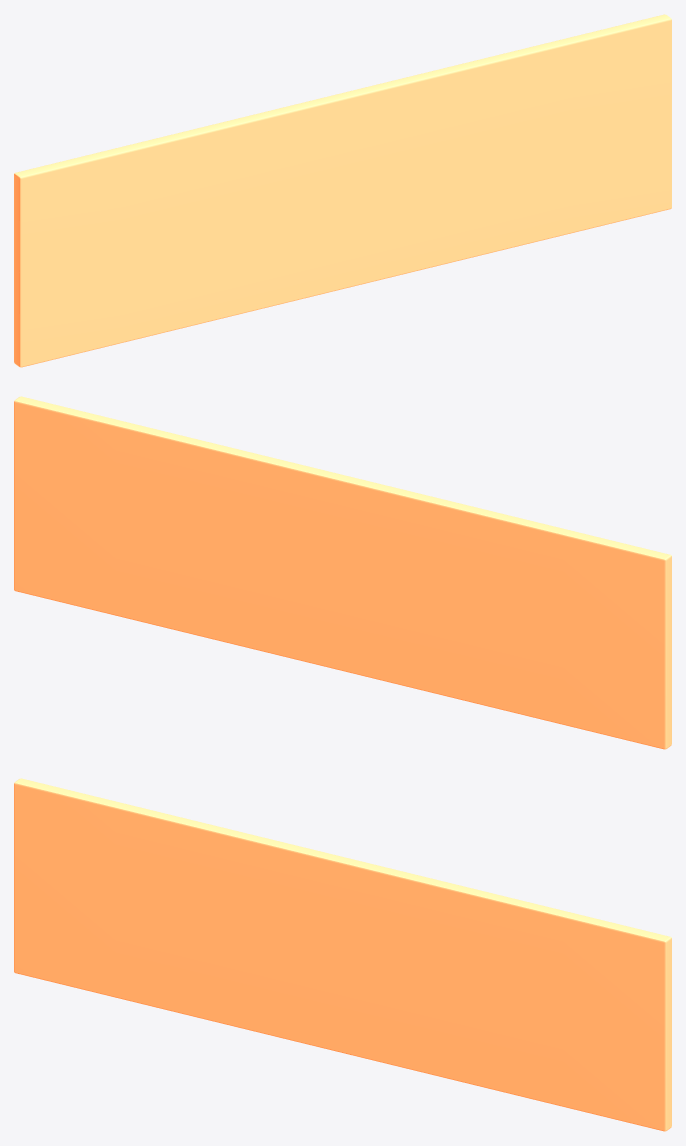
File: SM_Wall_MainDeckBack.fbx
3 views of the same model, one above another, from view 1: azimuth 30°, elevation 25°; view 2: azimuth 150°, elevation 25°; view 3: azimuth 330°, elevation 25° (orthographic).
Parts seen in each view (by area): view 1: SM_Wall_MainDeckBack; view 2: SM_Wall_MainDeckBack; view 3: SM_Wall_MainDeckBack.
Boxes of the visible parts, x1,y1,x2,y2 form: SM_Wall_MainDeckBack: (14,14,671,367); SM_Wall_MainDeckBack: (14,396,671,749); SM_Wall_MainDeckBack: (14,778,671,1131).
Size of the model in its own units: 1072 by 20 by 300.
